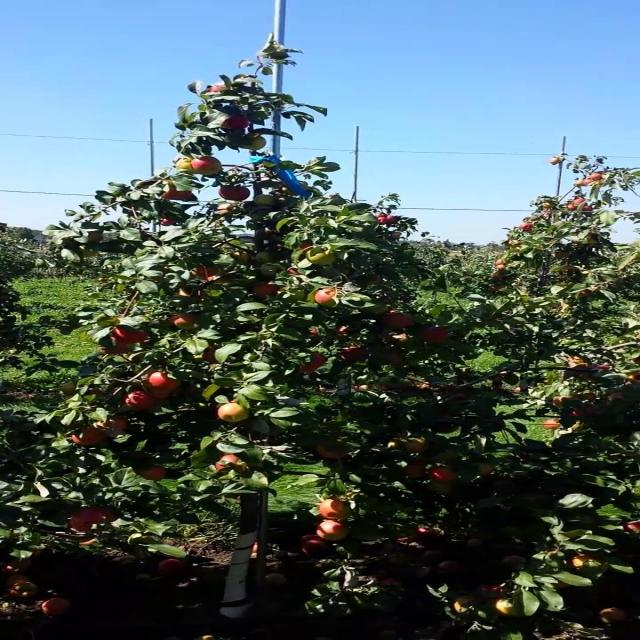apple: (67, 506, 118, 532), (315, 498, 352, 520), (314, 519, 349, 541), (216, 400, 250, 422), (145, 371, 181, 391), (68, 426, 104, 446), (569, 553, 609, 571), (111, 326, 149, 344), (122, 390, 154, 410), (214, 452, 246, 472), (312, 442, 348, 459), (296, 352, 324, 373), (217, 184, 249, 202), (382, 310, 414, 328), (312, 287, 340, 307), (133, 464, 167, 480), (98, 339, 132, 355), (93, 416, 127, 432), (191, 156, 221, 174), (160, 183, 191, 200), (419, 325, 448, 343), (305, 249, 337, 265), (427, 465, 457, 482), (400, 460, 428, 478), (492, 597, 516, 617), (169, 312, 199, 328), (190, 265, 220, 281), (450, 596, 476, 614), (338, 344, 367, 360), (426, 480, 455, 495), (401, 438, 429, 453), (220, 115, 248, 129), (174, 158, 197, 175), (470, 461, 494, 477), (252, 282, 279, 296), (200, 344, 218, 364), (163, 188, 193, 200), (382, 331, 409, 344), (383, 349, 404, 365), (564, 355, 588, 369), (244, 135, 266, 150), (569, 404, 596, 416), (227, 250, 249, 264), (145, 388, 170, 400), (252, 193, 276, 205), (252, 250, 274, 263), (551, 394, 574, 406), (539, 417, 561, 429), (575, 367, 595, 379), (622, 519, 639, 533), (85, 230, 104, 242), (213, 205, 234, 215), (206, 83, 226, 93), (335, 324, 350, 336), (364, 275, 382, 285), (158, 216, 175, 226), (297, 240, 314, 250), (578, 390, 594, 400), (566, 406, 582, 416)
